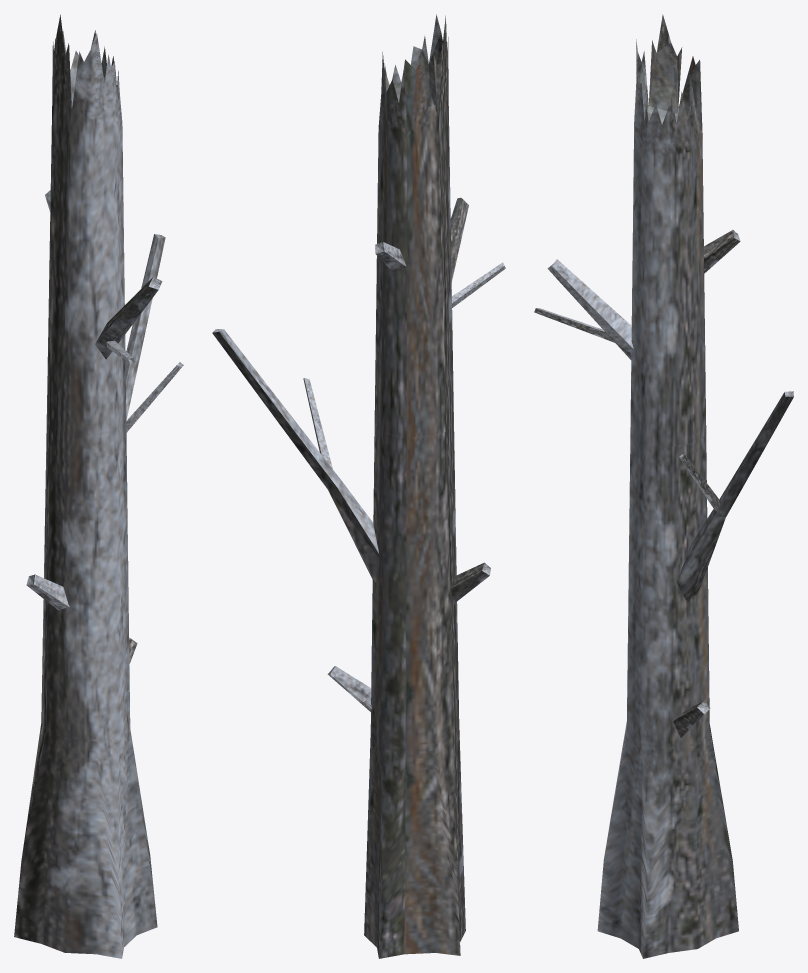
File: SM_EN_2007_kushu_02.FBX
3 views of the same model, side by side, from view 1: azimuth 30°, elevation 25°; view 2: azimuth 150°, elevation 25°; view 3: azimuth 270°, elevation 25° (orthographic). The views are drawn at different scales.
Visible parts, largest first — view 1: SM_EN_2007_kushu_02; view 2: SM_EN_2007_kushu_02; view 3: SM_EN_2007_kushu_02.
Part boxes in pixels (left/top/right/bottom): SM_EN_2007_kushu_02: left=14, top=14, right=183, bottom=958; SM_EN_2007_kushu_02: left=212, top=14, right=505, bottom=958; SM_EN_2007_kushu_02: left=534, top=14, right=793, bottom=958.
Size of the model in its own units: 241 by 1030 by 268.
